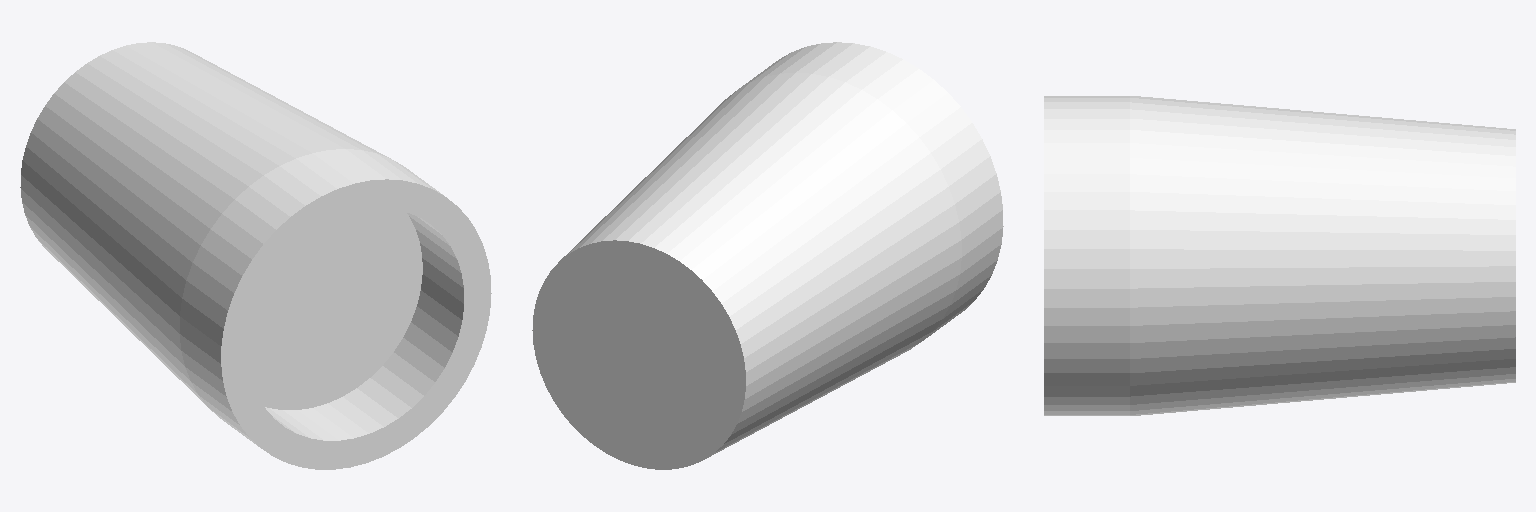
robot.urdf — ur3e_with_hand:
<?xml version="1.0" ?>
<!-- =================================================================================== -->
<!-- |    This document was autogenerated by xacro from ur3e_with_measurement_tool.xacro | -->
<!-- |    EDITING THIS FILE BY HAND IS NOT RECOMMENDED                                 | -->
<!-- =================================================================================== -->
<robot name="ur3e_with_hand">
    
    <transmission name="shoulder_pan_trans">
        <type>transmission_interface/SimpleTransmission</type>
        <joint name="shoulder_pan_joint">
            <hardwareInterface>hardware_interface/PositionJointInterface</hardwareInterface>
        </joint>
        <actuator name="shoulder_pan_motor">
            <mechanicalReduction>1</mechanicalReduction>
            <hardwareInterface>hardware_interface/EffortJointInterface</hardwareInterface>
        </actuator>
    </transmission>
    <transmission name="shoulder_lift_trans">
        <type>transmission_interface/SimpleTransmission</type>
        <joint name="shoulder_lift_joint">
            <hardwareInterface>hardware_interface/PositionJointInterface</hardwareInterface>
        </joint>
        <actuator name="shoulder_lift_motor">
            <mechanicalReduction>1</mechanicalReduction>
            <hardwareInterface>hardware_interface/EffortJointInterface</hardwareInterface>
        </actuator>
    </transmission>
    <transmission name="elbow_trans">
        <type>transmission_interface/SimpleTransmission</type>
        <joint name="elbow_joint">
            <hardwareInterface>hardware_interface/PositionJointInterface</hardwareInterface>
        </joint>
        <actuator name="elbow_motor">
            <mechanicalReduction>1</mechanicalReduction>
            <hardwareInterface>hardware_interface/EffortJointInterface</hardwareInterface>
        </actuator>
    </transmission>
    <transmission name="wrist_1_trans">
        <type>transmission_interface/SimpleTransmission</type>
        <joint name="wrist_1_joint">
            <hardwareInterface>hardware_interface/PositionJointInterface</hardwareInterface>
        </joint>
        <actuator name="wrist_1_motor">
            <mechanicalReduction>1</mechanicalReduction>
            <hardwareInterface>hardware_interface/EffortJointInterface</hardwareInterface>
        </actuator>
    </transmission>
    <transmission name="wrist_2_trans">
        <type>transmission_interface/SimpleTransmission</type>
        <joint name="wrist_2_joint">
            <hardwareInterface>hardware_interface/PositionJointInterface</hardwareInterface>
        </joint>
        <actuator name="wrist_2_motor">
            <mechanicalReduction>1</mechanicalReduction>
            <hardwareInterface>hardware_interface/EffortJointInterface</hardwareInterface>
        </actuator>
    </transmission>
    <transmission name="wrist_3_trans">
        <type>transmission_interface/SimpleTransmission</type>
        <joint name="wrist_3_joint">
            <hardwareInterface>hardware_interface/PositionJointInterface</hardwareInterface>
        </joint>
        <actuator name="wrist_3_motor">
            <mechanicalReduction>1</mechanicalReduction>
            <hardwareInterface>hardware_interface/EffortJointInterface</hardwareInterface>
        </actuator>
    </transmission>
    <!-- links: main serial chain -->
    <link name="base_link" />
    <link name="base_link_inertia">
        <visual>
            <origin rpy="0 0 3.141592653589793" xyz="0 0 0" />
            <geometry>
                <mesh filename="package://ur3ehand_description/meshes/ur3e/visual/base.dae" />
            </geometry>
            <material name="LightGrey">
                <color rgba="0.7 0.7 0.7 1.0" />
            </material>
        </visual>
        <collision>
            <origin rpy="0 0 3.141592653589793" xyz="0 0 0" />
            <geometry>
                <mesh filename="package://ur3ehand_description/meshes/ur3e/collision/base.stl" />
            </geometry>
        </collision>
        <inertial>
            <mass value="2.0" />
            <origin rpy="0 0 0" xyz="0 0 0" />
            <inertia ixx="0.0030531654454" ixy="0.0" ixz="0.0" iyy="0.0030531654454" iyz="0.0" izz="0.005625" />
        </inertial>
    </link>
    <link name="shoulder_link">
        <visual>
            <origin rpy="0 0 3.141592653589793" xyz="0 0 0" />
            <geometry>
                <mesh filename="package://ur3ehand_description/meshes/ur3e/visual/shoulder.dae" />
            </geometry>
            <material name="LightGrey">
                <color rgba="0.7 0.7 0.7 1.0" />
            </material>
        </visual>
        <collision>
            <origin rpy="0 0 3.141592653589793" xyz="0 0 0" />
            <geometry>
                <mesh filename="package://ur3ehand_description/meshes/ur3e/collision/shoulder.stl" />
            </geometry>
        </collision>
        <inertial>
            <mass value="2.0" />
            <origin rpy="0 0 0" xyz="0 0 0" />
            <inertia ixx="0.008093163429399999" ixy="0.0" ixz="0.0" iyy="0.008093163429399999" iyz="0.0" izz="0.005625" />
        </inertial>
    </link>
    <link name="upper_arm_link">
        <visual>
            <origin rpy="1.5707963267948966 0 -1.5707963267948966" xyz="0 0 0.12" />
            <geometry>
                <mesh filename="package://ur3ehand_description/meshes/ur3e/visual/upperarm.dae" />
            </geometry>
            <material name="LightGrey">
                <color rgba="0.7 0.7 0.7 1.0" />
            </material>
        </visual>
        <collision>
            <origin rpy="1.5707963267948966 0 -1.5707963267948966" xyz="0 0 0.12" />
            <geometry>
                <mesh filename="package://ur3ehand_description/meshes/ur3e/collision/upperarm.stl" />
            </geometry>
        </collision>
        <inertial>
            <mass value="3.42" />
            <origin rpy="0 1.5707963267948966 0" xyz="-0.121825 0.0 0.12" />
            <inertia ixx="0.021728483221103233" ixy="0.0" ixz="0.0" iyy="0.021728483221103233" iyz="0.0" izz="0.00961875" />
        </inertial>
    </link>
    <link name="forearm_link">
        <visual>
            <origin rpy="1.5707963267948966 0 -1.5707963267948966" xyz="0 0 0.027" />
            <geometry>
                <mesh filename="package://ur3ehand_description/meshes/ur3e/visual/forearm.dae" />
            </geometry>
            <material name="LightGrey">
                <color rgba="0.7 0.7 0.7 1.0" />
            </material>
        </visual>
        <collision>
            <origin rpy="1.5707963267948966 0 -1.5707963267948966" xyz="0 0 0.027" />
            <geometry>
                <mesh filename="package://ur3ehand_description/meshes/ur3e/collision/forearm.stl" />
            </geometry>
        </collision>
        <inertial>
            <mass value="1.26" />
            <origin rpy="0 1.5707963267948966 0" xyz="-0.1066 0.0 0.027" />
            <inertia ixx="0.0065445675821719194" ixy="0.0" ixz="0.0" iyy="0.0065445675821719194" iyz="0.0" izz="0.00354375" />
        </inertial>
    </link>
    <link name="wrist_1_link">
        <visual>
            <!-- TODO: Move this to a parameter -->
            <origin rpy="1.5707963267948966 0 0" xyz="0 0 -0.104" />
            <geometry>
                <mesh filename="package://ur3ehand_description/meshes/ur3e/visual/wrist1.dae" />
            </geometry>
            <material name="LightGrey">
                <color rgba="0.7 0.7 0.7 1.0" />
            </material>
        </visual>
        <collision>
            <origin rpy="1.5707963267948966 0 0" xyz="0 0 -0.104" />
            <geometry>
                <mesh filename="package://ur3ehand_description/meshes/ur3e/collision/wrist1.stl" />
            </geometry>
        </collision>
        <inertial>
            <mass value="0.8" />
            <origin rpy="0 0 0" xyz="0 0 0" />
            <inertia ixx="0.002084999166" ixy="0.0" ixz="0.0" iyy="0.002084999166" iyz="0.0" izz="0.00225" />
        </inertial>
    </link>
    <link name="wrist_2_link">
        <visual>
            <origin rpy="0 0 0" xyz="0 0 -0.08535" />
            <geometry>
                <mesh filename="package://ur3ehand_description/meshes/ur3e/visual/wrist2.dae" />
            </geometry>
            <material name="LightGrey">
                <color rgba="0.7 0.7 0.7 1.0" />
            </material>
        </visual>
        <collision>
            <origin rpy="0 0 0" xyz="0 0 -0.08535" />
            <geometry>
                <mesh filename="package://ur3ehand_description/meshes/ur3e/collision/wrist2.stl" />
            </geometry>
        </collision>
        <inertial>
            <mass value="0.8" />
            <origin rpy="0 0 0" xyz="0 0 0" />
            <inertia ixx="0.002084999166" ixy="0.0" ixz="0.0" iyy="0.002084999166" iyz="0.0" izz="0.00225" />
        </inertial>
    </link>
    <link name="wrist_3_link">
        <visual>
            <origin rpy="1.5707963267948966 0 0" xyz="0 0 -0.0921" />
            <geometry>
                <mesh filename="package://ur3ehand_description/meshes/ur3e/visual/wrist3.dae" />
            </geometry>
            <material name="LightGrey">
                <color rgba="0.7 0.7 0.7 1.0" />
            </material>
        </visual>
        <collision>
            <origin rpy="1.5707963267948966 0 0" xyz="0 0 -0.0921" />
            <geometry>
                <mesh filename="package://ur3ehand_description/meshes/ur3e/collision/wrist3.stl" />
            </geometry>
        </collision>
        <inertial>
            <mass value="0.35" />
            <origin rpy="0 0 0" xyz="0.0 0.0 -0.02" />
            <inertia ixx="0.00013626661215999998" ixy="0.0" ixz="0.0" iyy="0.00013626661215999998" iyz="0.0" izz="0.0001792" />
        </inertial>
    </link>
    <!-- joints: main serial chain -->
    <joint name="base_link-base_link_inertia" type="fixed">
        <parent link="base_link" />
        <child link="base_link_inertia" />
        <!-- 'base_link' is REP-103 aligned (so X+ forward), while the internal
           frames of the robot/controller have X+ pointing backwards.
           Use the joint between 'base_link' and 'base_link_inertia' (a dummy
           link/frame) to introduce the necessary rotation over Z (of pi rad).
      -->
        <origin rpy="0 0 3.141592653589793" xyz="0 0 0" />
    </joint>
    <joint name="shoulder_pan_joint" type="revolute">
        <parent link="base_link_inertia" />
        <child link="shoulder_link" />
        <origin rpy="0 0 0" xyz="0 0 0.15185" />
        <axis xyz="0 0 1" />
        <limit effort="56.0" lower="-6.283185307179586" upper="6.283185307179586" velocity="3.141592653589793" />
        <dynamics damping="1.0" friction="0" />
    </joint>
    <joint name="shoulder_lift_joint" type="revolute">
        <parent link="shoulder_link" />
        <child link="upper_arm_link" />
        <origin rpy="1.570796327 0 0" xyz="0 0 0" />
        <axis xyz="0 0 1" />
        <limit effort="56.0" lower="-6.283185307179586" upper="6.283185307179586" velocity="3.141592653589793" />
        <dynamics damping="1.0" friction="0" />
    </joint>
    <joint name="elbow_joint" type="revolute">
        <parent link="upper_arm_link" />
        <child link="forearm_link" />
        <origin rpy="0 0 0" xyz="-0.24355 0 0" />
        <axis xyz="0 0 1" />
        <limit effort="28.0" lower="-3.141592653589793" upper="3.141592653589793" velocity="3.141592653589793" />
        <dynamics damping="1.0" friction="0" />
    </joint>
    <joint name="wrist_1_joint" type="revolute">
        <parent link="forearm_link" />
        <child link="wrist_1_link" />
        <origin rpy="0 0 0" xyz="-0.2132 0 0.13105" />
        <axis xyz="0 0 1" />
        <limit effort="12.0" lower="-6.283185307179586" upper="6.283185307179586" velocity="6.283185307179586" />
        <dynamics damping="1.0" friction="0" />
    </joint>
    <joint name="wrist_2_joint" type="revolute">
        <parent link="wrist_1_link" />
        <child link="wrist_2_link" />
        <origin rpy="1.570796327 0 0" xyz="0 -0.08535 -1.750557762378351e-11" />
        <axis xyz="0 0 1" />
        <limit effort="12.0" lower="-6.283185307179586" upper="6.283185307179586" velocity="6.283185307179586" />
        <dynamics damping="1.0" friction="0" />
    </joint>
    <joint name="wrist_3_joint" type="revolute">
        <parent link="wrist_2_link" />
        <child link="wrist_3_link" />
        <origin rpy="1.570796326589793 3.141592653589793 3.141592653589793" xyz="0 0.0921 -1.8890025766262e-11" />
        <axis xyz="0 0 1" />
        <limit effort="12.0" lower="-6.283185307179586" upper="6.283185307179586" velocity="6.283185307179586" />
        <dynamics damping="1.0" friction="0" />
    </joint>
    <!-- ROS-Industrial 'base' frame: base_link to UR 'Base' Coordinates transform -->
    <link name="base" />
    <joint name="base_link-base_fixed_joint" type="fixed">
        <!-- Note the rotation over Z of pi radians: as base_link is REP-103
           aligned (ie: has X+ forward, Y+ left and Z+ up), this is needed
           to correctly align 'base' with the 'Base' coordinate system of
           the UR controller.
      -->
        <origin rpy="0 0 3.141592653589793" xyz="0 0 0" />
        <parent link="base_link" />
        <child link="base" />
    </joint>
    <!-- ROS-Industrial 'flange' frame: attachment point for EEF models -->
    <link name="flange" />
    <joint name="wrist_3-flange" type="fixed">
        <parent link="wrist_3_link" />
        <child link="flange" />
        <origin rpy="0 -1.5707963267948966 -1.5707963267948966" xyz="0 0 0" />
    </joint>
    <!-- ROS-Industrial 'tool0' frame: all-zeros tool frame -->
    <joint name="flange-hand" type="fixed">
        <!-- default toolframe: X+ left, Y+ up, Z+ front -->
        <origin rpy="0 -2.3561944901 -1.5707963267948966" xyz="0 0 0" />
        <parent link="flange" />
        <child link="hand" />
    </joint>
    <link name="hand">
        <visual>
            <geometry>
                <!-- The path to the visual meshes in the package. -->
                <mesh filename="package://ur3ehand_description/meshes/ur3e/visual/hand.STL" scale="0.001 0.001 0.001" />
            </geometry>
            <material name="white">
                <color rgba="1 1 1 0.6" />
            </material>
        </visual>
        <collision>
            <geometry>
                <!-- The path to the collision meshes in the package. -->
                <mesh filename="package://ur3ehand_description/meshes/ur3e/collision/hand.STL" scale="0.001 0.001 0.001" />
            </geometry>
        </collision>
        <inertial>
            <mass value="0.1" />
            <origin xyz="0 0 0" rpy="0 0 0" />
            <inertia ixx="0.03" iyy="0.03" izz="0.03" ixy="0.0" ixz="0.0" iyz="0.0" />
        </inertial>
    </link>
    <!-- define the manipulator's position and orientation in the world coordinate system -->
    <link name="world" />
    <joint name="world_joint" type="fixed">
        <parent link="world" />
        <child link="base_link" />
        <!-- TODO: check base_link name of robot -->
        <origin rpy="0.0 0.0 0.0" xyz="0.0 0.0 0.01"/>
    </joint>
    <gazebo>
        <plugin name="gazebo_ros_control" filename="libgazebo_ros_control.so">
            <robotNamespace>/</robotNamespace>
        </plugin>
    </gazebo>
</robot>

--- What the picture shows (computed from the rendered views, not written in the file) ---
The picture shows the robot from 3 angles, left to right: view 1: azimuth 30°, elevation 25°; view 2: azimuth 150°, elevation 25°; view 3: azimuth 270°, elevation 25°; orthographic projection.
Model ur3e_with_hand with 12 links and 11 joints (6 revolute, 5 fixed), rooted at world, posed every joint at zero.
Visible links, largest first — view 1: hand; view 2: hand; view 3: hand.
Boxes of the visible links, <box> form: hand: <box>20,42,491,469</box>; hand: <box>532,42,1003,469</box>; hand: <box>1044,96,1515,415</box>.
Size in the robot's own frame: 0.1499 by 0.22 by 0.1499 metres.
1 mesh visuals loaded from 8 distinct referenced files (1 binary STL); not drawn: 7 (reference not matched to a file when rendering).